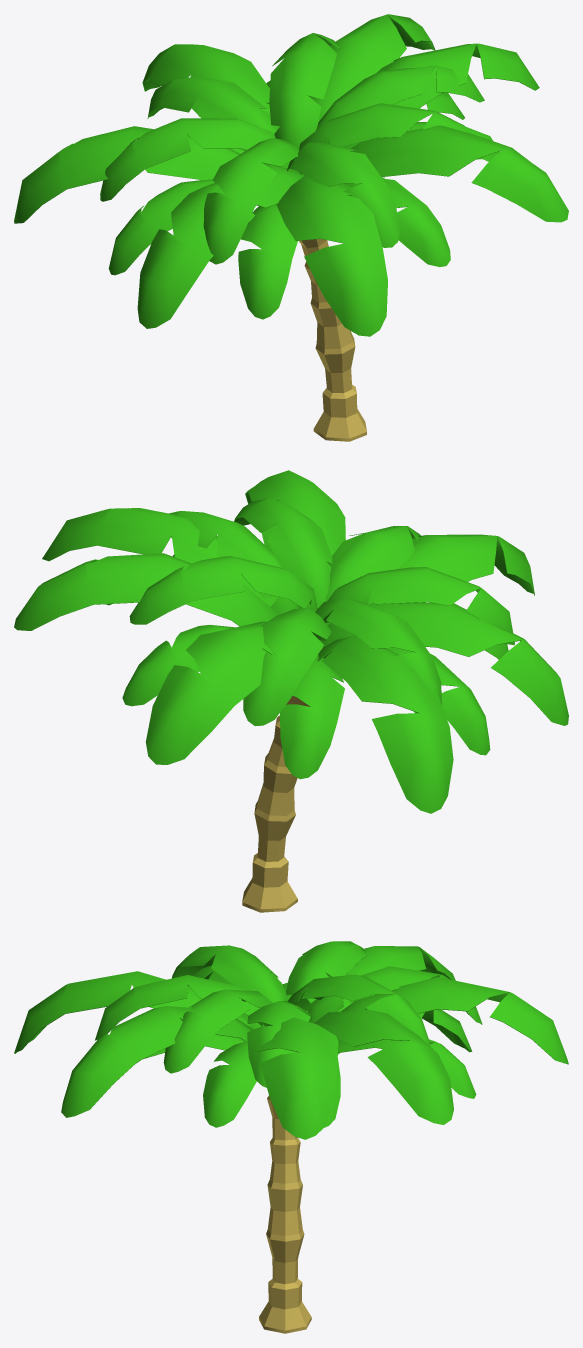
The model's file is coconut tree2.FBX.
3 views of the same model, one above another, from view 1: azimuth 30°, elevation 25°; view 2: azimuth 150°, elevation 25°; view 3: azimuth 270°, elevation 25° (orthographic). The views are drawn at different scales.
Visible parts, largest first — view 1: Plane003, Plane002, Plane004, Plane005, Plane017, Cylinder001, Plane020, Plane018, Plane007, Plane010, Plane016, Plane006 (+7 smaller); view 2: Plane005, Plane006, Plane007, Plane004, Plane001, Plane020, Cylinder001, Plane019, Plane012, Plane017, Plane015, Plane003 (+6 smaller); view 3: Plane001, Cylinder001, Plane007, Plane002, Plane006, Plane003, Plane015, Plane017, Plane020, Plane008, Plane016, Plane018 (+5 smaller).
Part boxes in pixels (x1,y1,x2,y2): Plane003: (276,176,387,336); Plane002: (351,125,568,222); Plane004: (137,165,304,328); Plane005: (14,126,239,223); Plane017: (203,138,299,264); Cylinder001: (299,239,366,441); Plane020: (269,33,340,148); Plane018: (100,118,275,201); Plane007: (309,14,435,121); Plane010: (238,204,297,319); Plane016: (286,142,399,247); Plane006: (142,44,288,167); Plane005: (317,635,453,813); Plane006: (146,621,275,764); Plane007: (14,553,278,630); Plane004: (319,602,568,725); Plane001: (42,508,279,607); Plane020: (129,556,317,624); Cylinder001: (242,648,322,912); Plane019: (243,607,331,725); Plane012: (280,655,344,779); Plane017: (326,567,514,645); Plane015: (234,498,332,608); Plane003: (367,534,534,604); Plane001: (255,1017,338,1139); Cylinder001: (259,1096,311,1333); Plane007: (314,1010,453,1124); Plane002: (61,1006,253,1117); Plane006: (341,977,568,1064); Plane003: (14,971,249,1053); Plane015: (163,989,272,1073); Plane017: (172,945,287,1002); Plane020: (288,974,430,1045); Plane008: (203,1041,256,1127); Plane016: (95,975,264,1040); Plane018: (286,941,366,1012).
Size of the model in its own units: 255 by 192 by 279.
